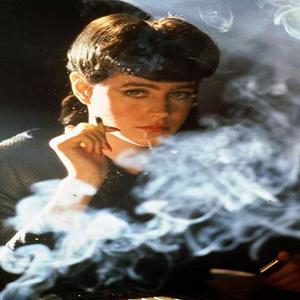cigarette: (96, 115, 109, 137)
